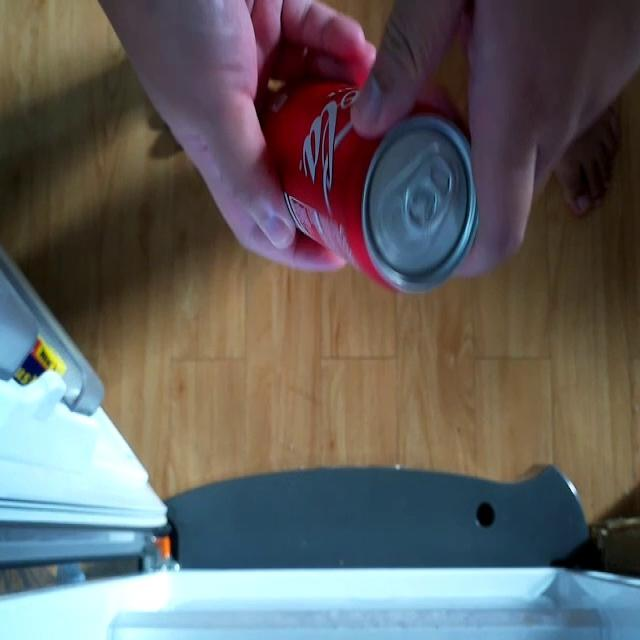coke: (261, 73, 480, 298)
